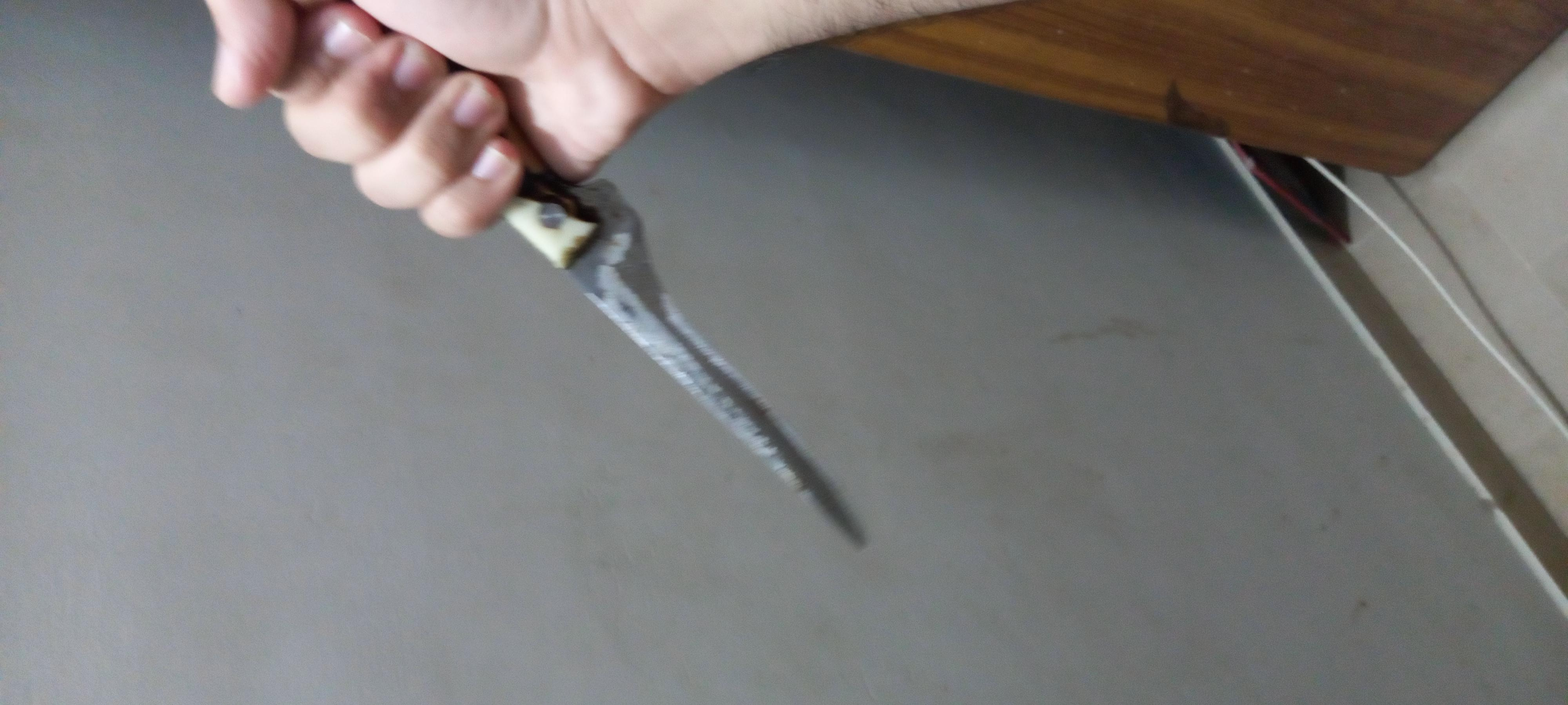knives: (308, 171, 1524, 392)
